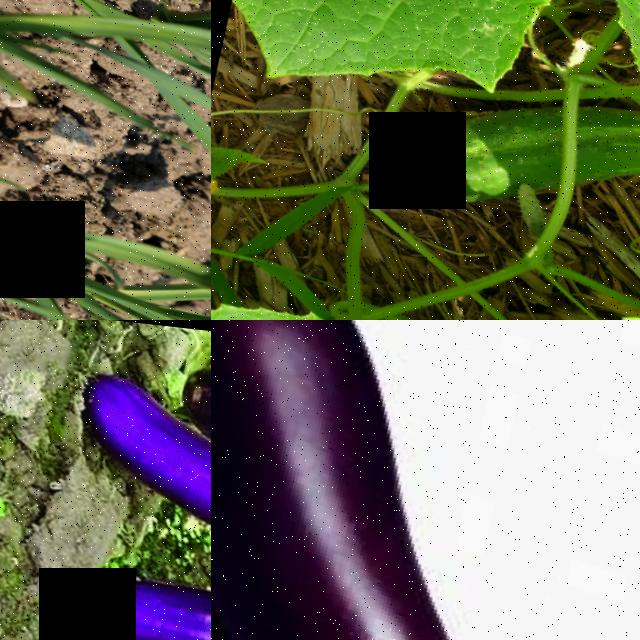cucumber: (392, 50, 640, 274)
eggplant: (211, 320, 596, 640), (70, 541, 211, 640), (133, 429, 211, 606)
